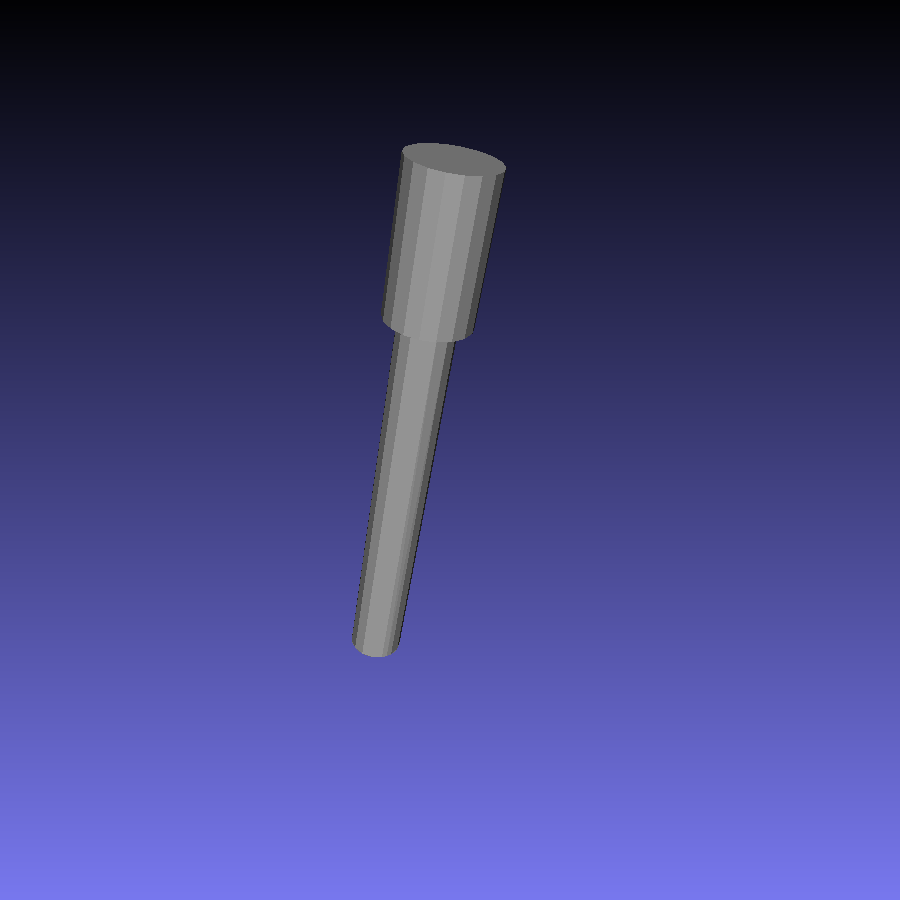cargo_g: (353, 139, 505, 658)
